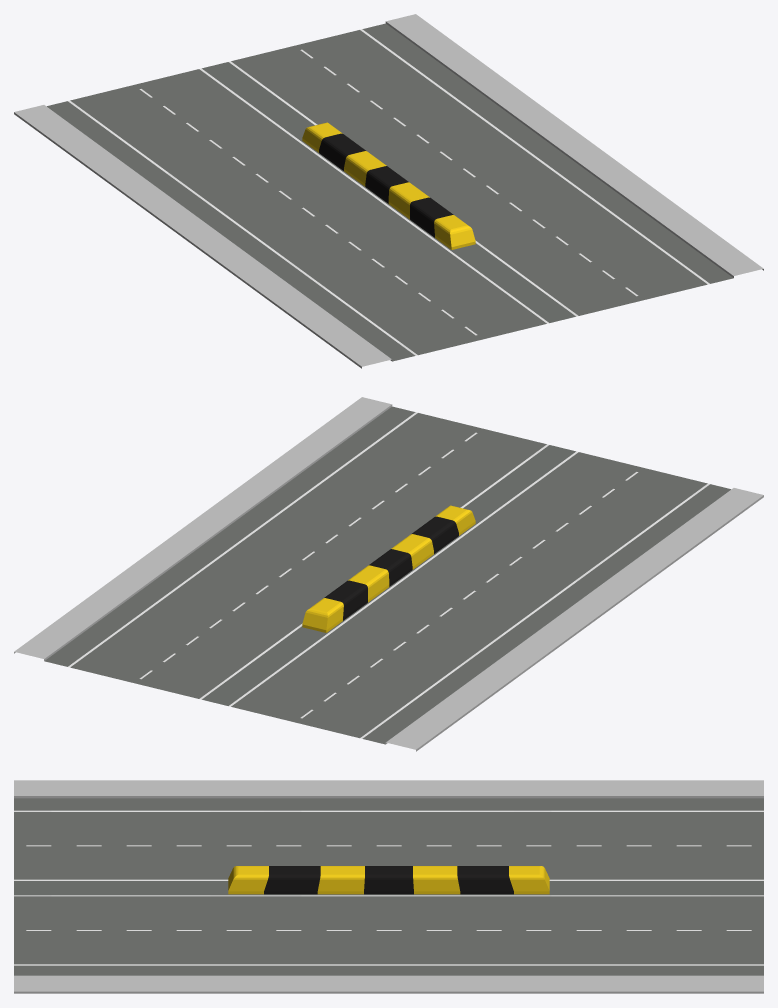
Rendered from Double_Straight_XL_2.fbx.
3 views of the same model, one above another, from view 1: azimuth 30°, elevation 25°; view 2: azimuth 150°, elevation 25°; view 3: azimuth 270°, elevation 25° (orthographic). The views are drawn at different scales.
Parts seen in each view (by area): view 1: Plane; view 2: Plane; view 3: Plane.
Part boxes in pixels (x1,y1,x2,y2): Plane: [14, 14, 763, 368]; Plane: [14, 397, 763, 751]; Plane: [14, 780, 763, 993].
Bounding box in the file's own units: 30 × 1.17 × 45.
